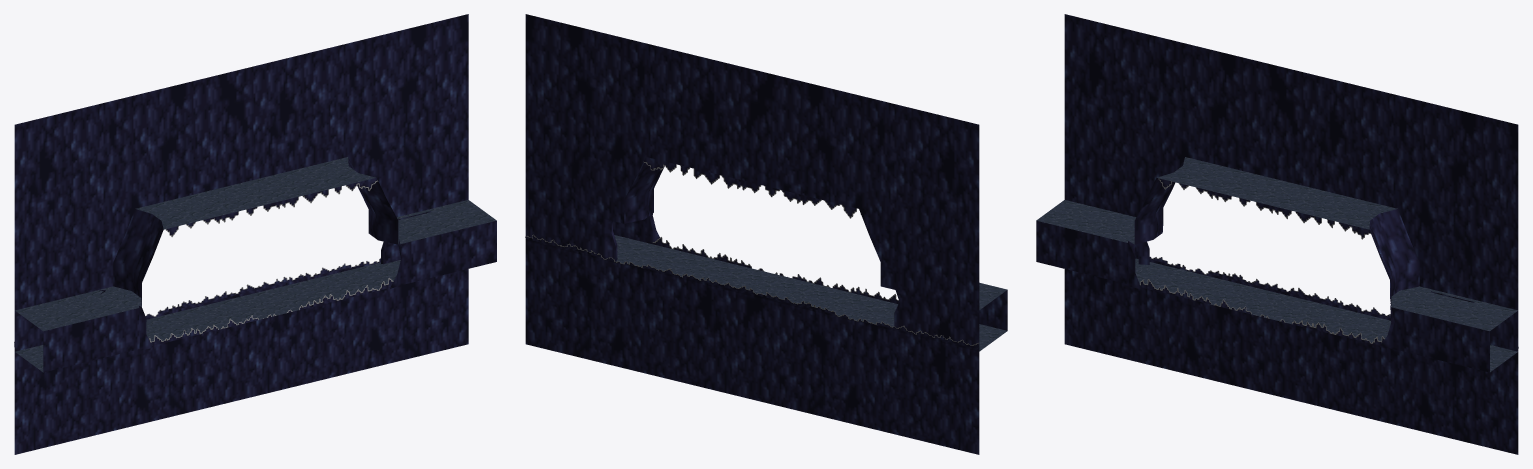
The model's file is Room_Transition.fbx.
3 views of the same model, side by side, from view 1: azimuth 30°, elevation 25°; view 2: azimuth 150°, elevation 25°; view 3: azimuth 330°, elevation 25° (orthographic).
Visible parts, largest first — view 1: polySurface5; view 2: polySurface5; view 3: polySurface5.
Boxes of the visible parts, box(x1,y1,x2,y2) form: polySurface5: box(14, 14, 496, 454); polySurface5: box(525, 14, 1007, 454); polySurface5: box(1036, 14, 1518, 454).
Size of the model in its own units: 46 by 32 by 5.49.
Materials: 3 (3 with a texture image).
